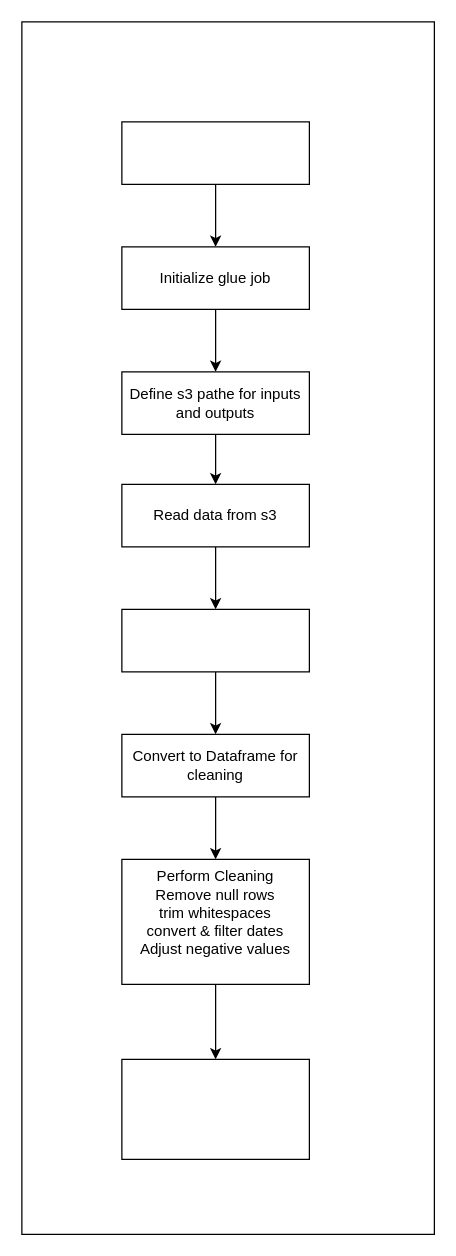
Image size: 456x1256. Some labels were removed from this diagram. The centre of each missing label's shape, as x and y in pixels:
"Apply Mapping" goes at point (215, 640).
"convert to csv json parquet" goes at point (215, 1108).
"Import Libraries" goes at point (215, 152).
